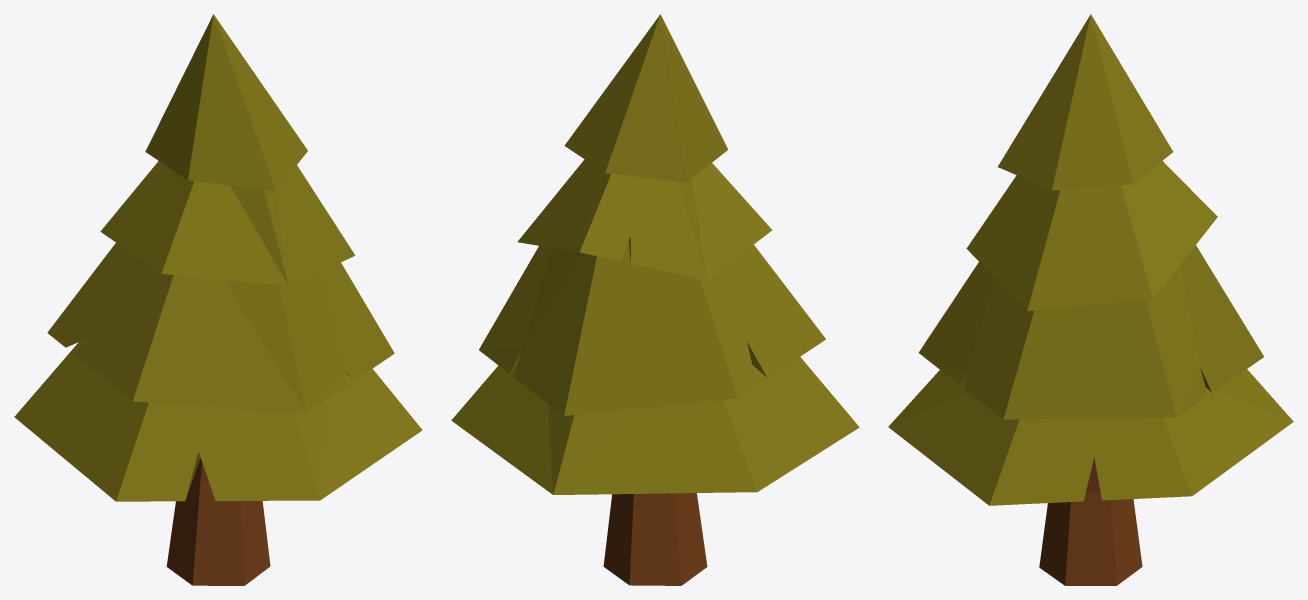
Rendered from PineTree3.fbx.
3 views of the same model, side by side, from view 1: azimuth 30°, elevation 25°; view 2: azimuth 150°, elevation 25°; view 3: azimuth 270°, elevation 25° (orthographic).
Parts seen in each view (by area): view 1: PineTree3; view 2: PineTree3; view 3: PineTree3.
Boxes of the visible parts, bbox=[...] form: PineTree3: bbox=[14, 14, 422, 585]; PineTree3: bbox=[451, 14, 859, 585]; PineTree3: bbox=[888, 14, 1293, 585].
Size of the model in its own units: 237 by 409 by 273.
